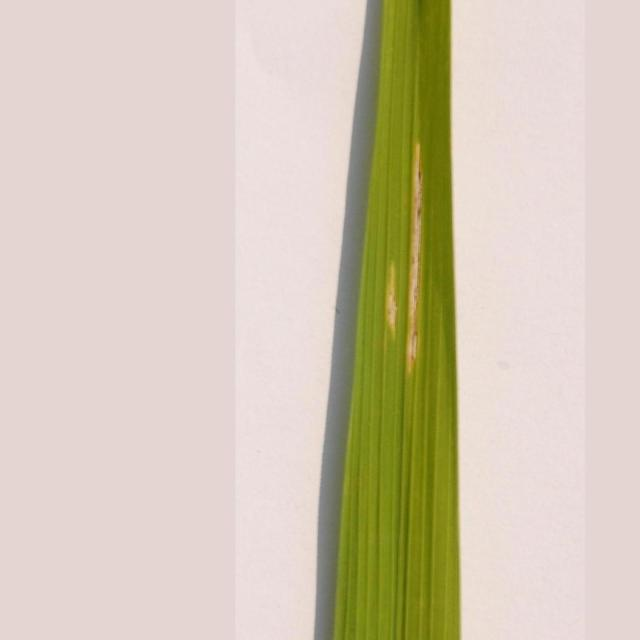Bacterial leaf blight: (405, 140, 433, 390), (380, 264, 402, 356)
